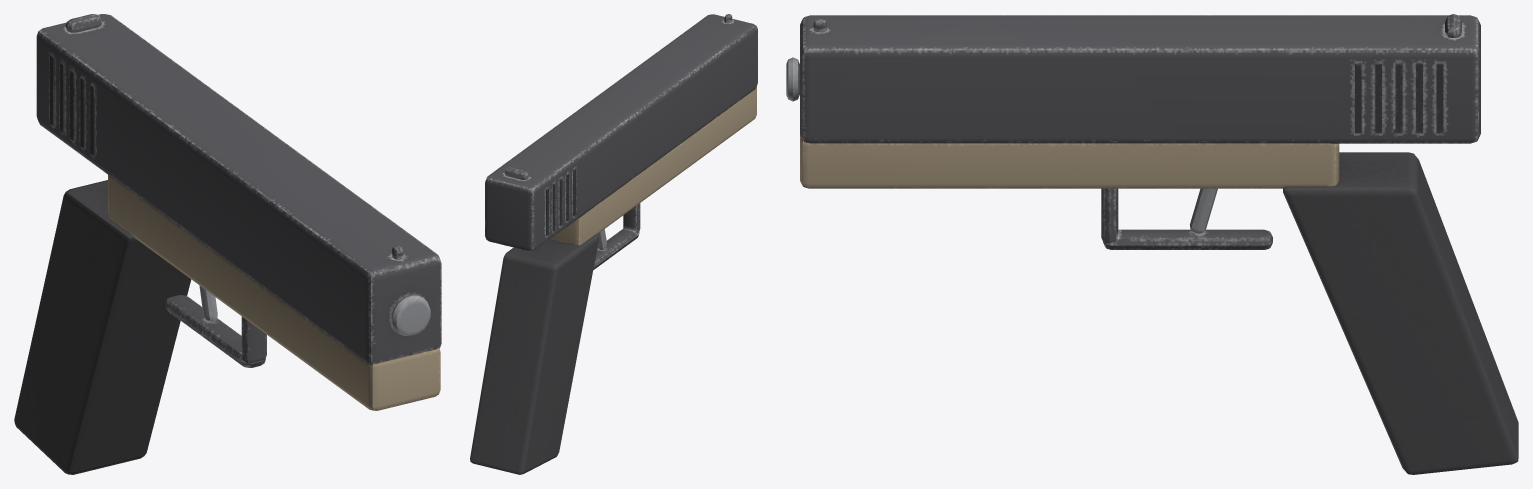
Rendered from fiveseven.fbx.
The picture shows the model from 3 angles, left to right: view 1: azimuth 30°, elevation 25°; view 2: azimuth 150°, elevation 25°; view 3: azimuth 270°, elevation 25°; orthographic projection. The views are drawn at different scales.
Visible parts, largest first — view 1: fiveseven; view 2: fiveseven; view 3: fiveseven.
Part boxes in pixels (<box>): fiveseven: <box>14,14,441,474</box>; fiveseven: <box>470,14,757,474</box>; fiveseven: <box>786,14,1518,474</box>.
Size of the model in its own units: 0.028 by 0.1422 by 0.2151.
